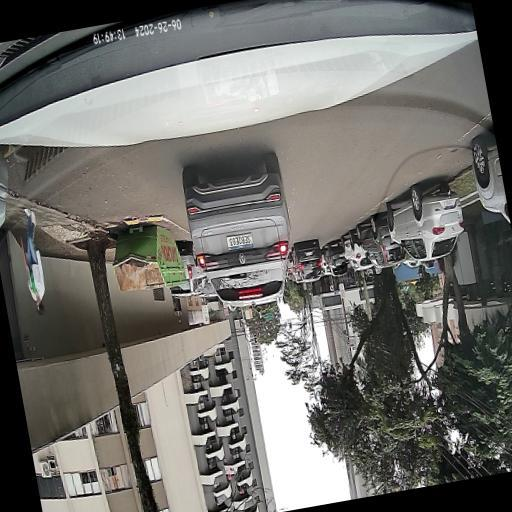R-24a: (328, 282, 332, 290)
R-6b: (202, 312, 208, 322), (222, 308, 226, 314), (340, 290, 344, 296)
